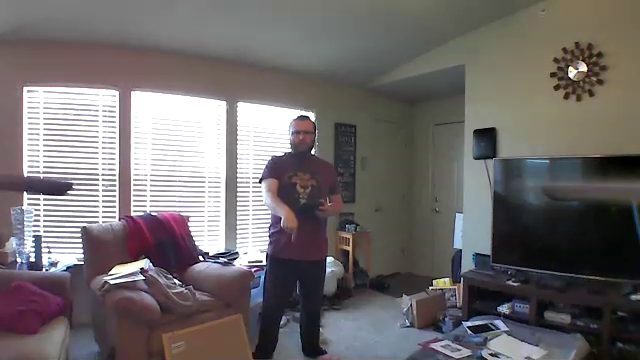down: (277, 206, 303, 249)
